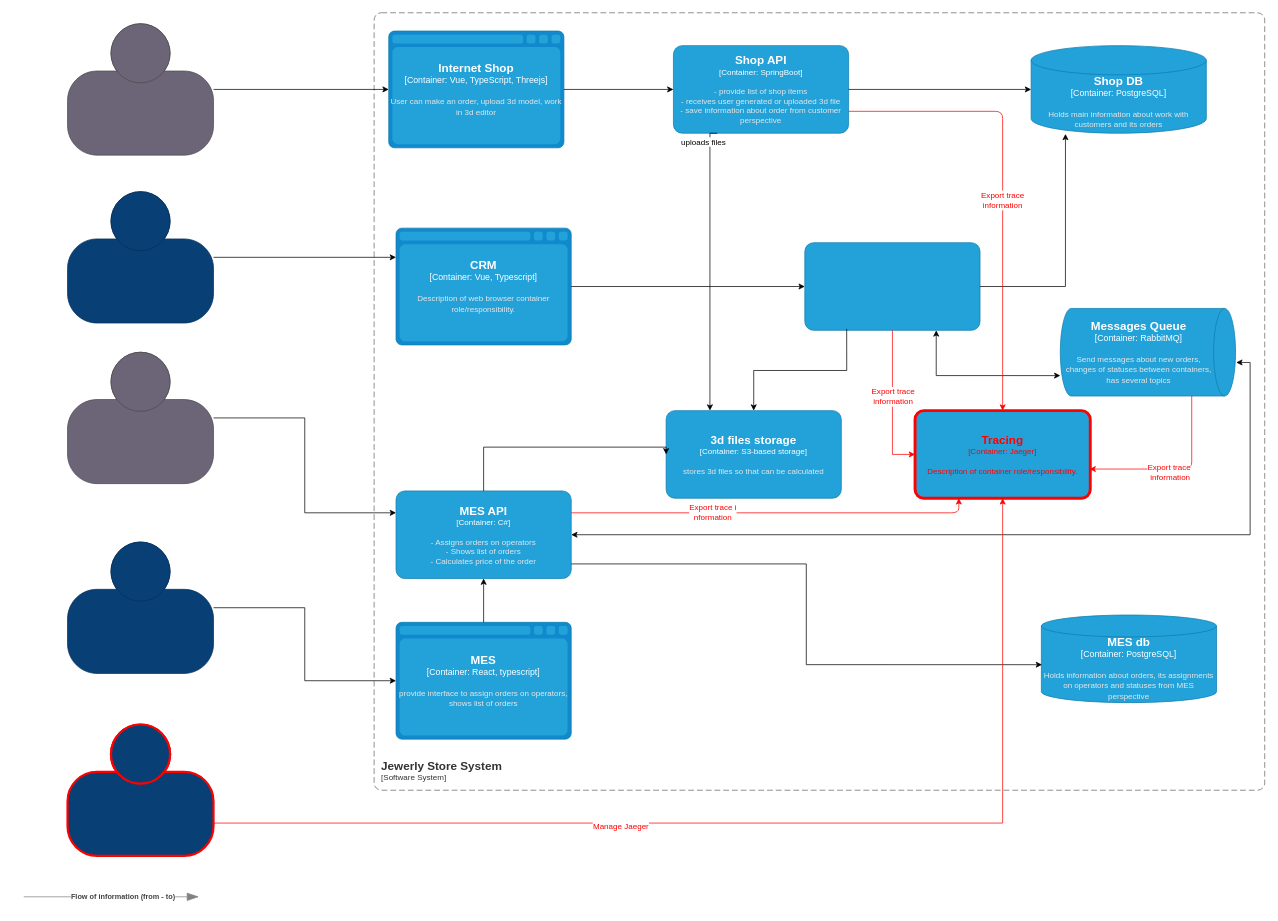
Image size: 1278x921. Some labels were removed from this diagram. Here are the shapes that lost their labels. From the top down, the box of each, then its label:
(67, 23, 214, 155): Customer [Person] Description of external person.
(67, 191, 214, 323): Seller [Person] Operates with order, confirms manufacturing for the user
(804, 242, 980, 330): CRM API [Container: SpringBoot] Description of container role/responsibility.
(67, 351, 214, 484): API user [Person] Description of external person.
(67, 541, 214, 673): Operator [Person] Takes order in work, manufactures jewerly
(66, 723, 214, 857): Support [Person] View trace information, incident review
